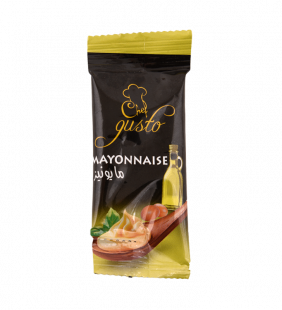GUSTO: (81, 24, 198, 285)
